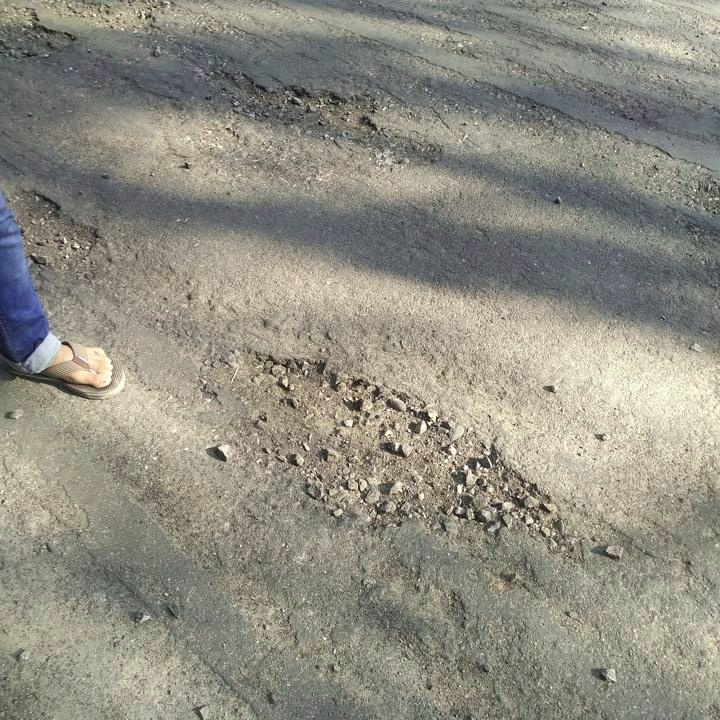pothole: (221, 341, 574, 557), (207, 68, 383, 142), (12, 182, 104, 271), (35, 0, 168, 38), (0, 0, 76, 60)
